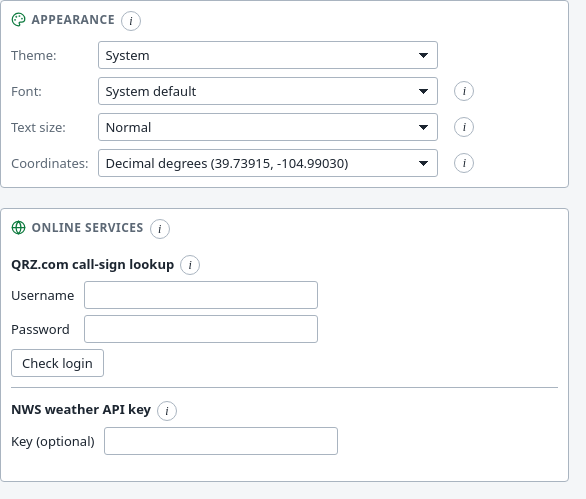
Test case: SettingsTab (SET-020) › saves a box as you leave it, only if it changed, and says so
Click the field named "QRZ username" at (201, 296), box 84,282 -> 318,310
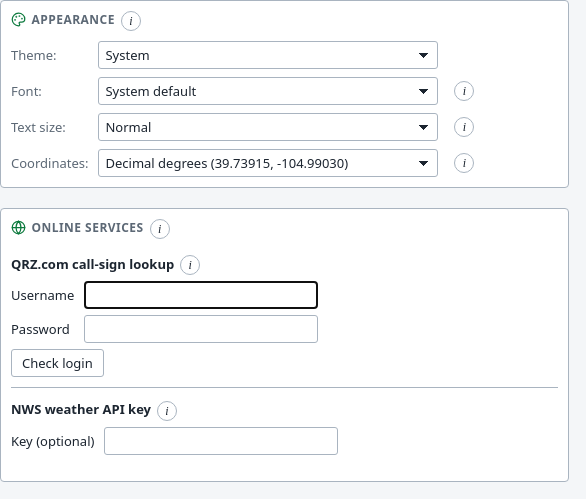
Press Tab
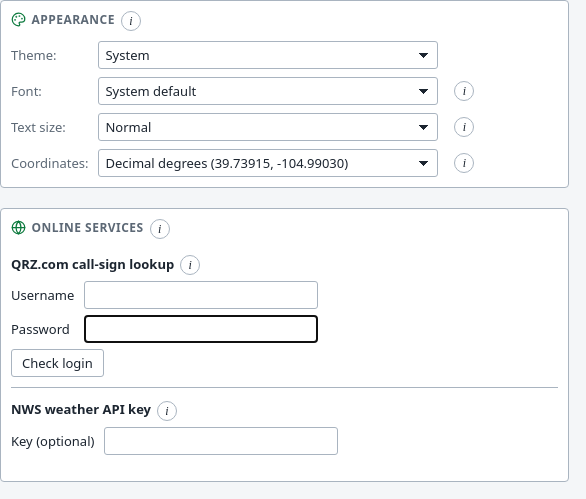
Type "N0CALL" into the field named "QRZ username" at (201, 296), box 84,282 -> 318,310
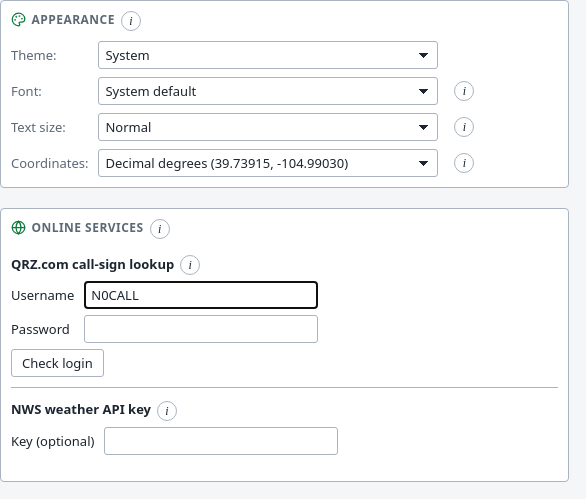
Press Tab
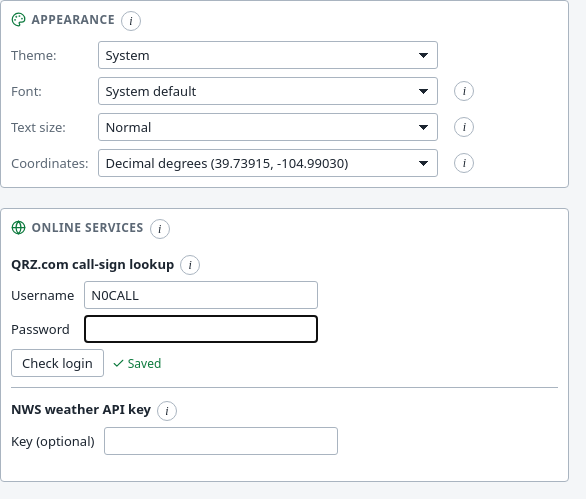
Now the text "Saved" is shown, box 112,355 -> 161,372
